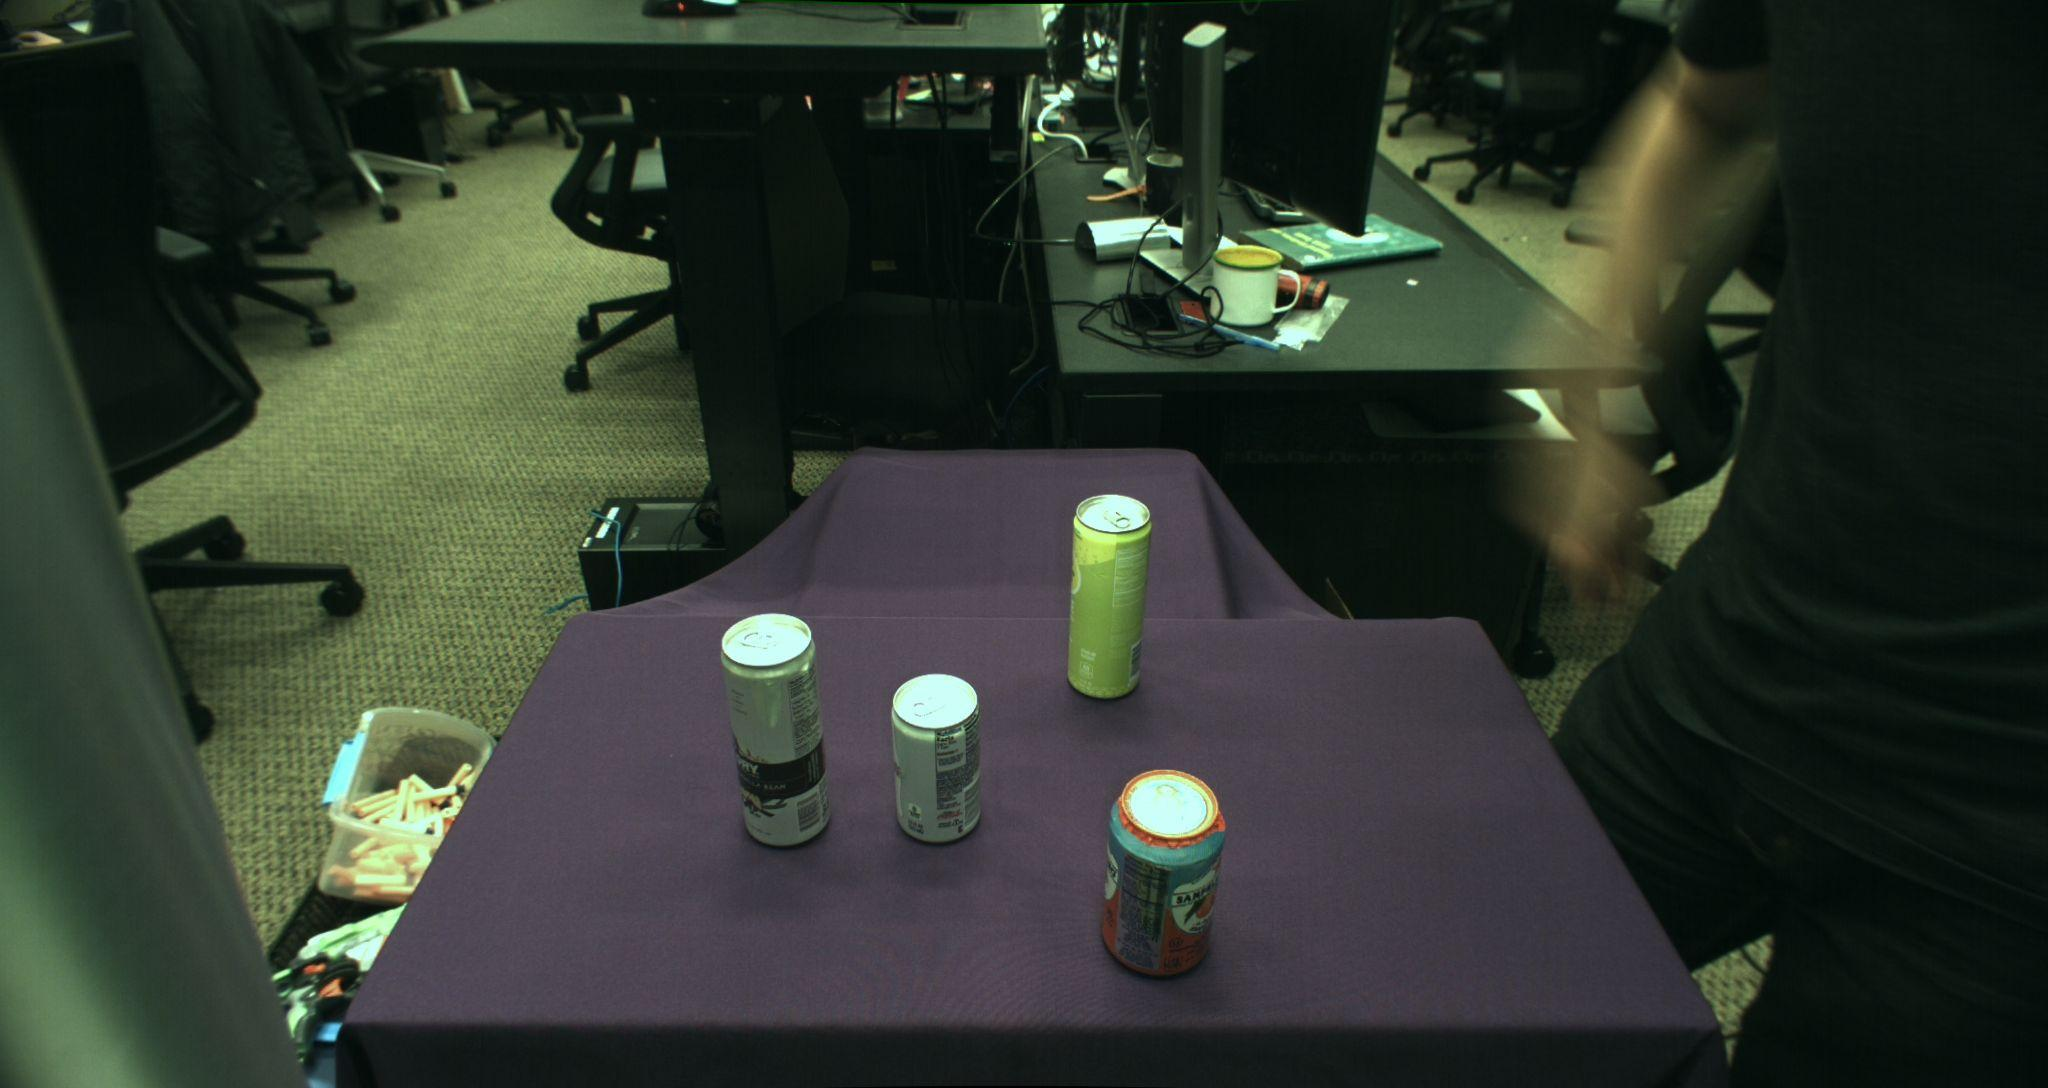can_diet_coke_small: (890, 673, 983, 845)
can_dry_sparkling_vanilla_bean: (721, 612, 832, 848)
can_izze_fusions_lemon_lime: (1067, 492, 1153, 696)
can_sanpellegrino_blood_orange: (1101, 767, 1227, 981)
